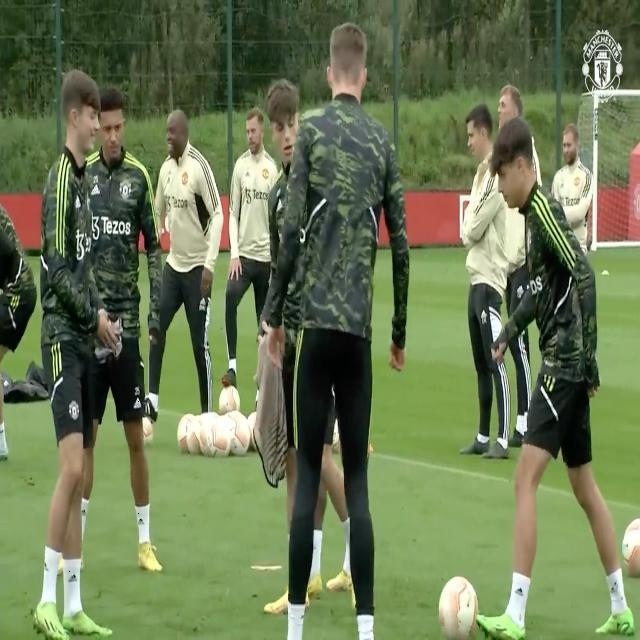Adidas: (515, 583, 525, 599), (90, 183, 102, 196), (68, 570, 78, 585), (133, 395, 142, 411), (138, 513, 147, 527)
